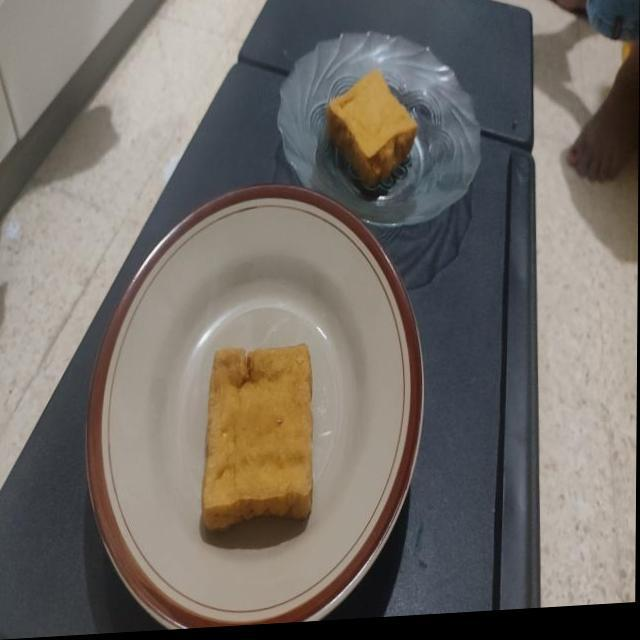tahu_goreng: (202, 343, 313, 530), (327, 70, 417, 189)
